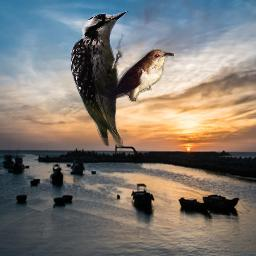Cuckoo: (102, 49, 174, 102)
Woodpecker: (65, 4, 133, 154)
